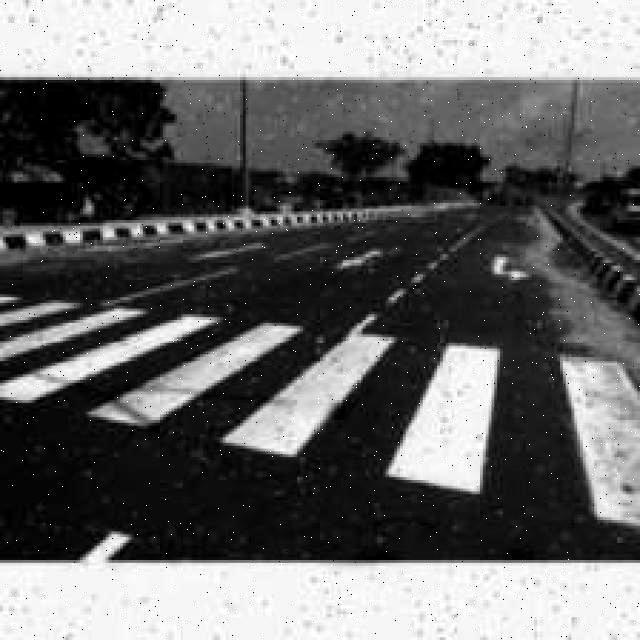crosswalk: (0, 283, 631, 542)
